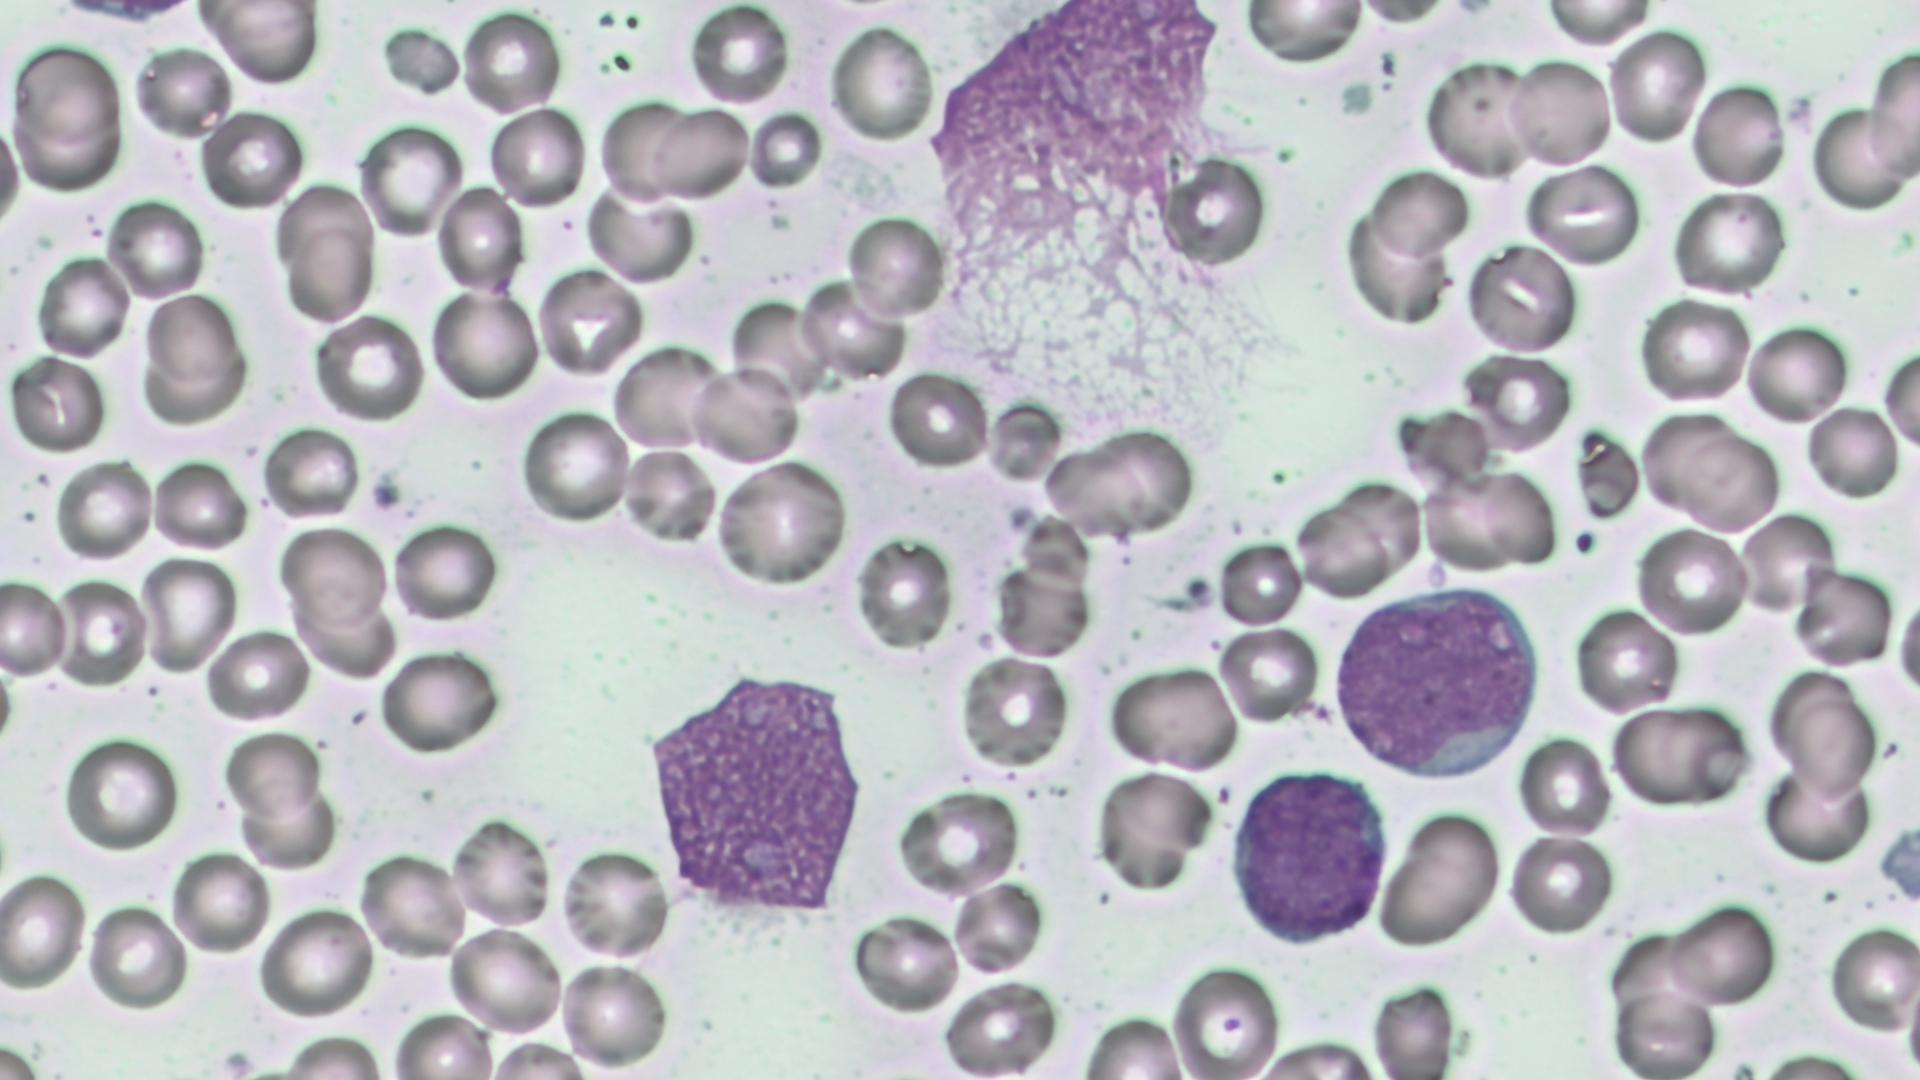Platelets: (1183, 573, 1216, 603)
RBC: (1376, 806, 1502, 952), (713, 455, 848, 590), (1420, 53, 1538, 184), (1606, 702, 1748, 810), (1418, 466, 1558, 573), (1342, 194, 1452, 330), (896, 786, 1023, 900), (1095, 766, 1209, 892), (1105, 663, 1237, 771), (62, 732, 180, 852), (258, 902, 376, 1022), (445, 922, 565, 1038), (558, 841, 671, 964), (1632, 524, 1752, 639), (957, 650, 1070, 772), (278, 183, 375, 325), (1464, 238, 1578, 357), (429, 284, 542, 403), (522, 405, 632, 527), (1636, 294, 1754, 407), (557, 957, 671, 1072), (534, 263, 646, 380), (828, 20, 934, 143), (357, 118, 462, 242), (609, 342, 725, 454), (1168, 960, 1280, 1076), (310, 311, 426, 423), (381, 646, 501, 754), (851, 530, 955, 654), (1670, 187, 1786, 298), (1508, 52, 1616, 171), (1772, 678, 1876, 801), (1665, 424, 1782, 533), (1606, 25, 1708, 149), (1668, 897, 1779, 1010), (1504, 828, 1616, 939), (687, 357, 799, 468), (1161, 154, 1269, 269), (449, 812, 554, 930), (357, 848, 465, 961), (583, 180, 698, 286), (141, 551, 238, 676), (11, 38, 121, 148), (1572, 604, 1680, 716), (278, 522, 389, 630), (167, 845, 273, 958), (458, 5, 564, 118), (86, 898, 189, 1014), (1525, 162, 1644, 262), (1743, 320, 1851, 429), (389, 519, 499, 625), (484, 101, 589, 212), (936, 980, 1059, 1074), (854, 910, 963, 1016), (1461, 351, 1574, 453), (197, 106, 304, 212), (1093, 424, 1196, 534), (50, 454, 155, 561), (1736, 508, 1838, 618), (1810, 103, 1912, 213), (842, 211, 944, 321), (0, 868, 89, 994), (1689, 78, 1788, 191), (1216, 622, 1322, 727), (687, 1, 790, 109), (32, 249, 132, 360), (203, 626, 314, 724), (53, 574, 148, 688), (4, 350, 108, 454), (105, 196, 206, 303), (434, 180, 525, 297), (946, 875, 1048, 979), (886, 367, 988, 471), (1796, 562, 1894, 670), (1605, 986, 1722, 1076), (1040, 440, 1143, 542), (1826, 921, 1918, 1035), (622, 445, 719, 552), (1761, 770, 1875, 861), (597, 96, 691, 206), (290, 588, 401, 681), (991, 558, 1093, 659), (129, 42, 233, 141), (1514, 733, 1612, 836), (261, 423, 360, 523), (139, 336, 246, 428), (649, 105, 748, 202), (233, 780, 339, 870), (219, 726, 322, 818), (149, 456, 250, 549), (1368, 166, 1470, 258), (1802, 402, 1898, 499), (1340, 476, 1424, 584), (1368, 977, 1460, 1075), (212, 2, 319, 86), (144, 290, 239, 383), (1299, 499, 1389, 597), (1239, 1, 1370, 66), (1216, 536, 1306, 628), (0, 575, 70, 680), (985, 395, 1064, 486), (388, 1012, 496, 1078), (1868, 48, 1920, 181), (747, 109, 824, 192), (1538, 0, 1658, 46), (1880, 340, 1920, 452), (0, 117, 27, 248)
WBC: (635, 666, 869, 914), (1322, 581, 1548, 788), (1226, 762, 1396, 948)
